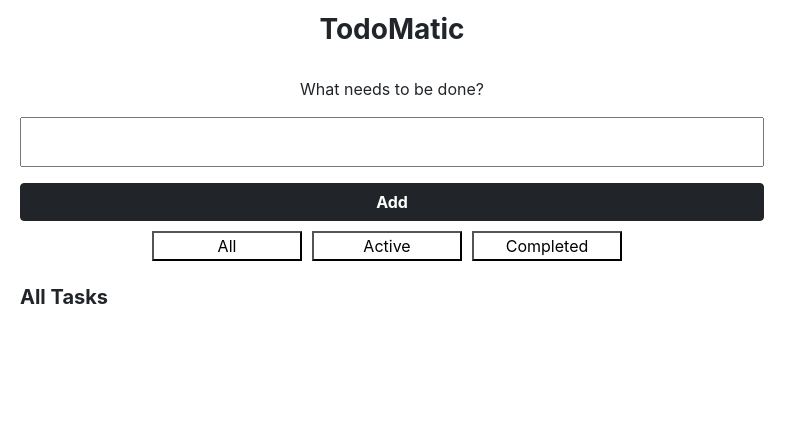
Test case: Add new task › Adds the task into the array
The width and height of the screenshot is (785, 442).
Step 1. Type "New Task!" into the field with test id "newTask" → (392,142), box [20,117,764,167]
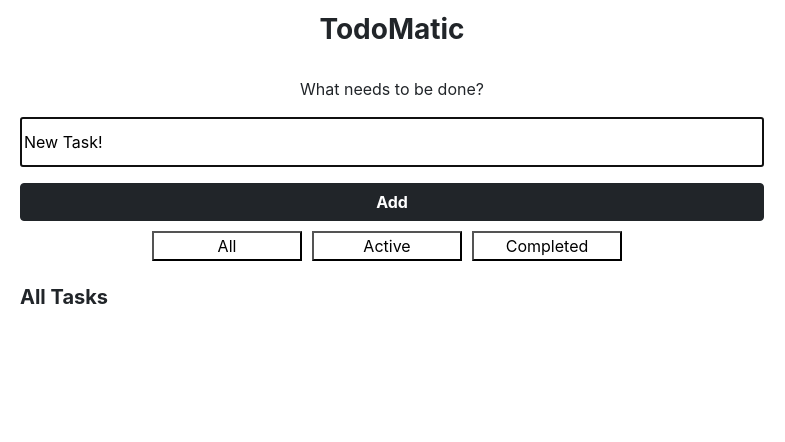
Step 2. Click the button with test id "addTaskBtn" → (392,202), box [20,183,764,221]
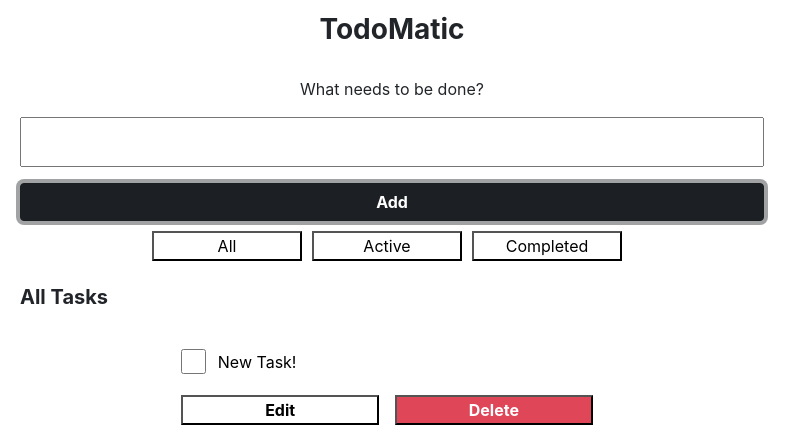
Expected: the field with test id "tasks" holds "New Task!", [216,349,468,375]
